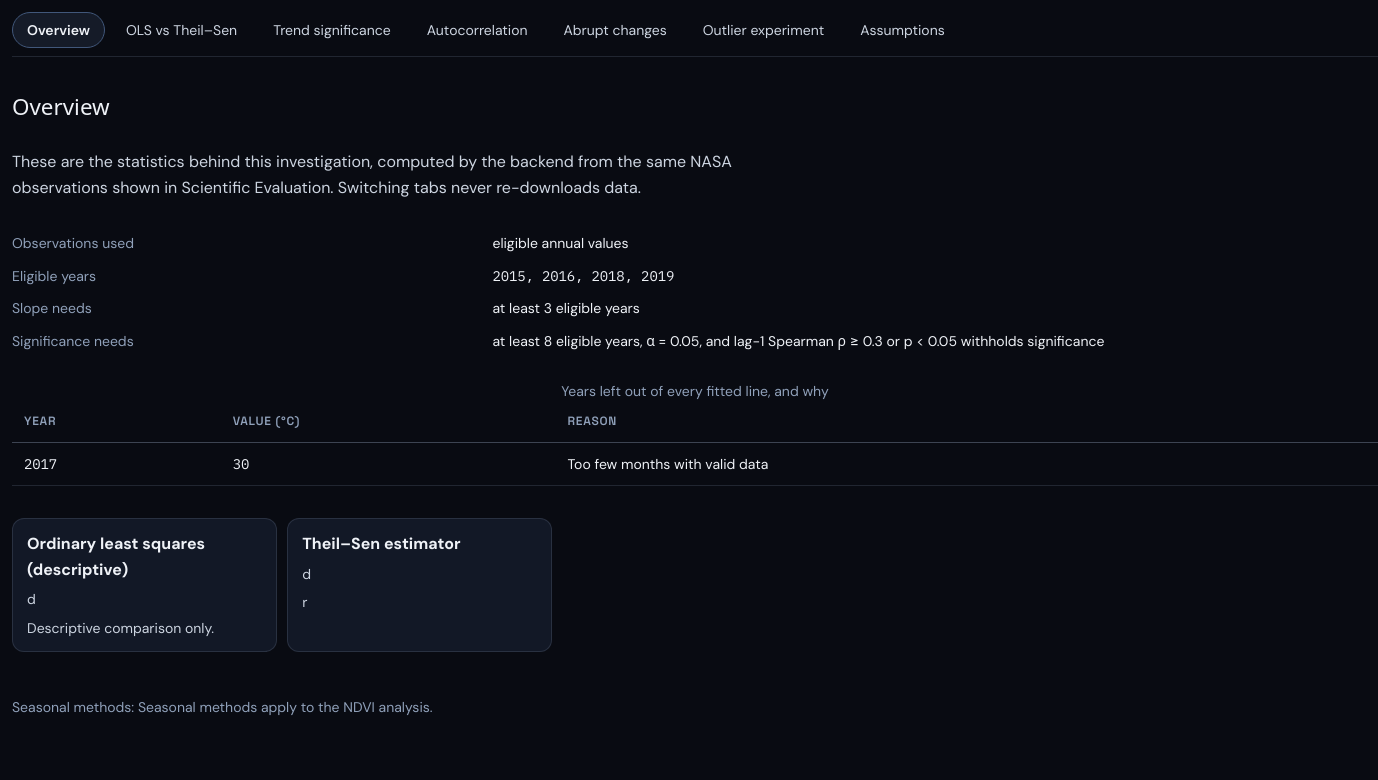
Test: Statistical Methods Lab › labels the outlier experiment as a simulation and leaves the investigation untouched
Click the tab "Outlier experiment".
click(763, 30)  # box [688,12,839,48]
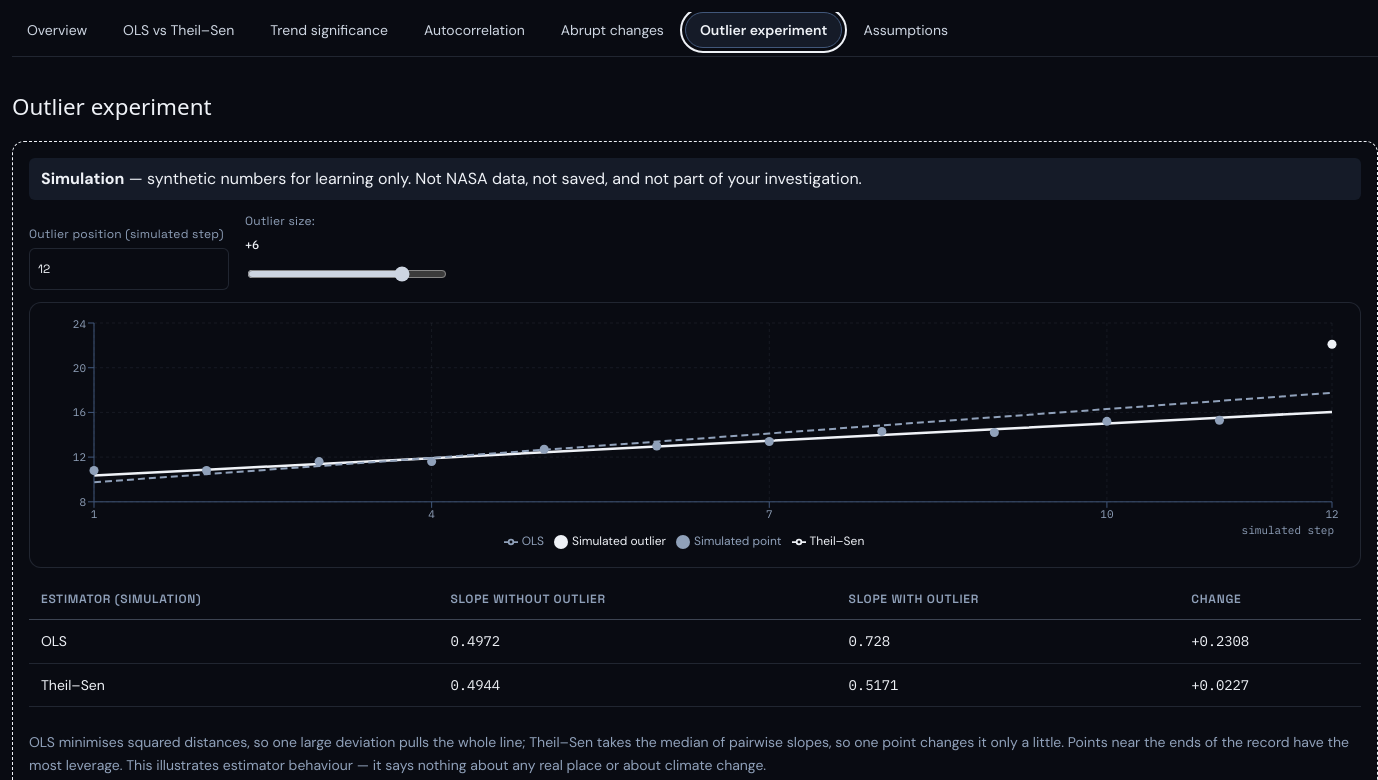
Expected: the text "Not NASA data, not saved" is shown, [124,168,862,189]
Expected: the cell with test id "sim-ols" reads "0.728", [849,632,890,650]
Set the slider labelled "Outlier size: +6" to "8" at (421, 274), box [247,260,447,288]
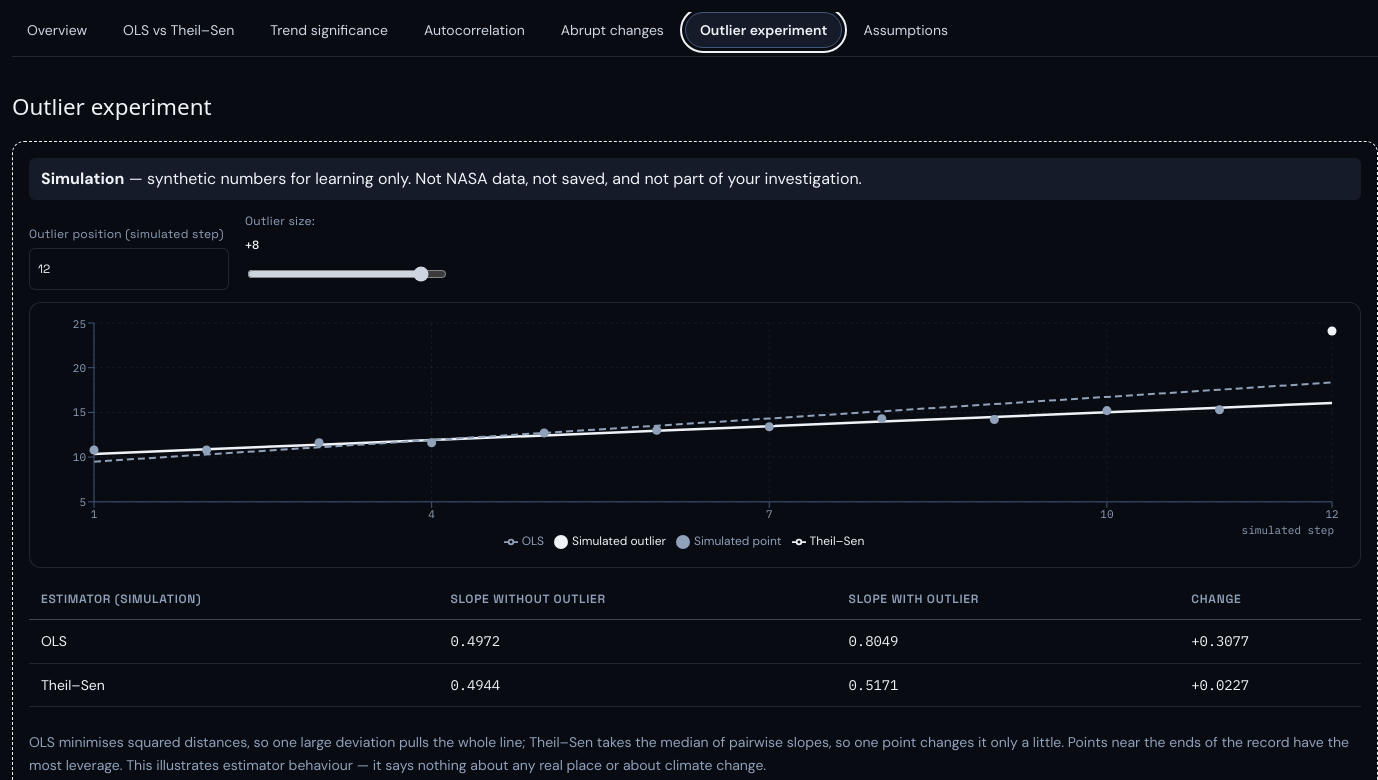
Expected: the cell with test id "sim-ts" reads "0.5171", [849,676,898,694]
Expected: the cell with test id "sim-ols" reads "0.8049", [849,632,898,650]
